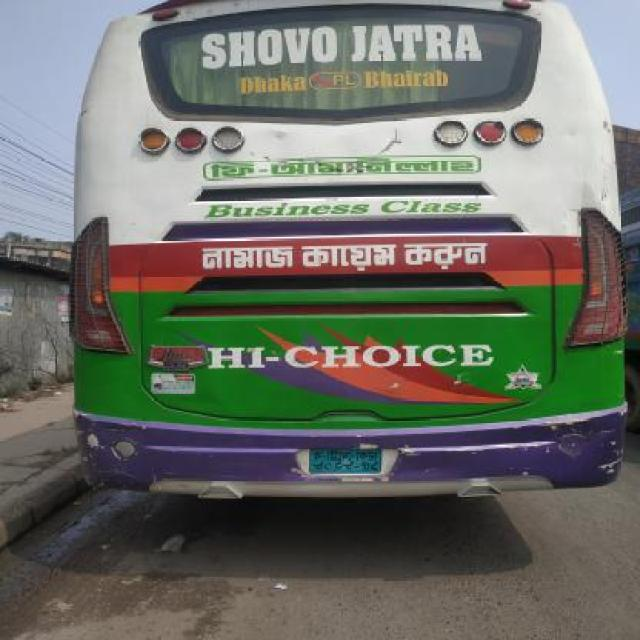numberplate: (308, 443, 384, 475)
